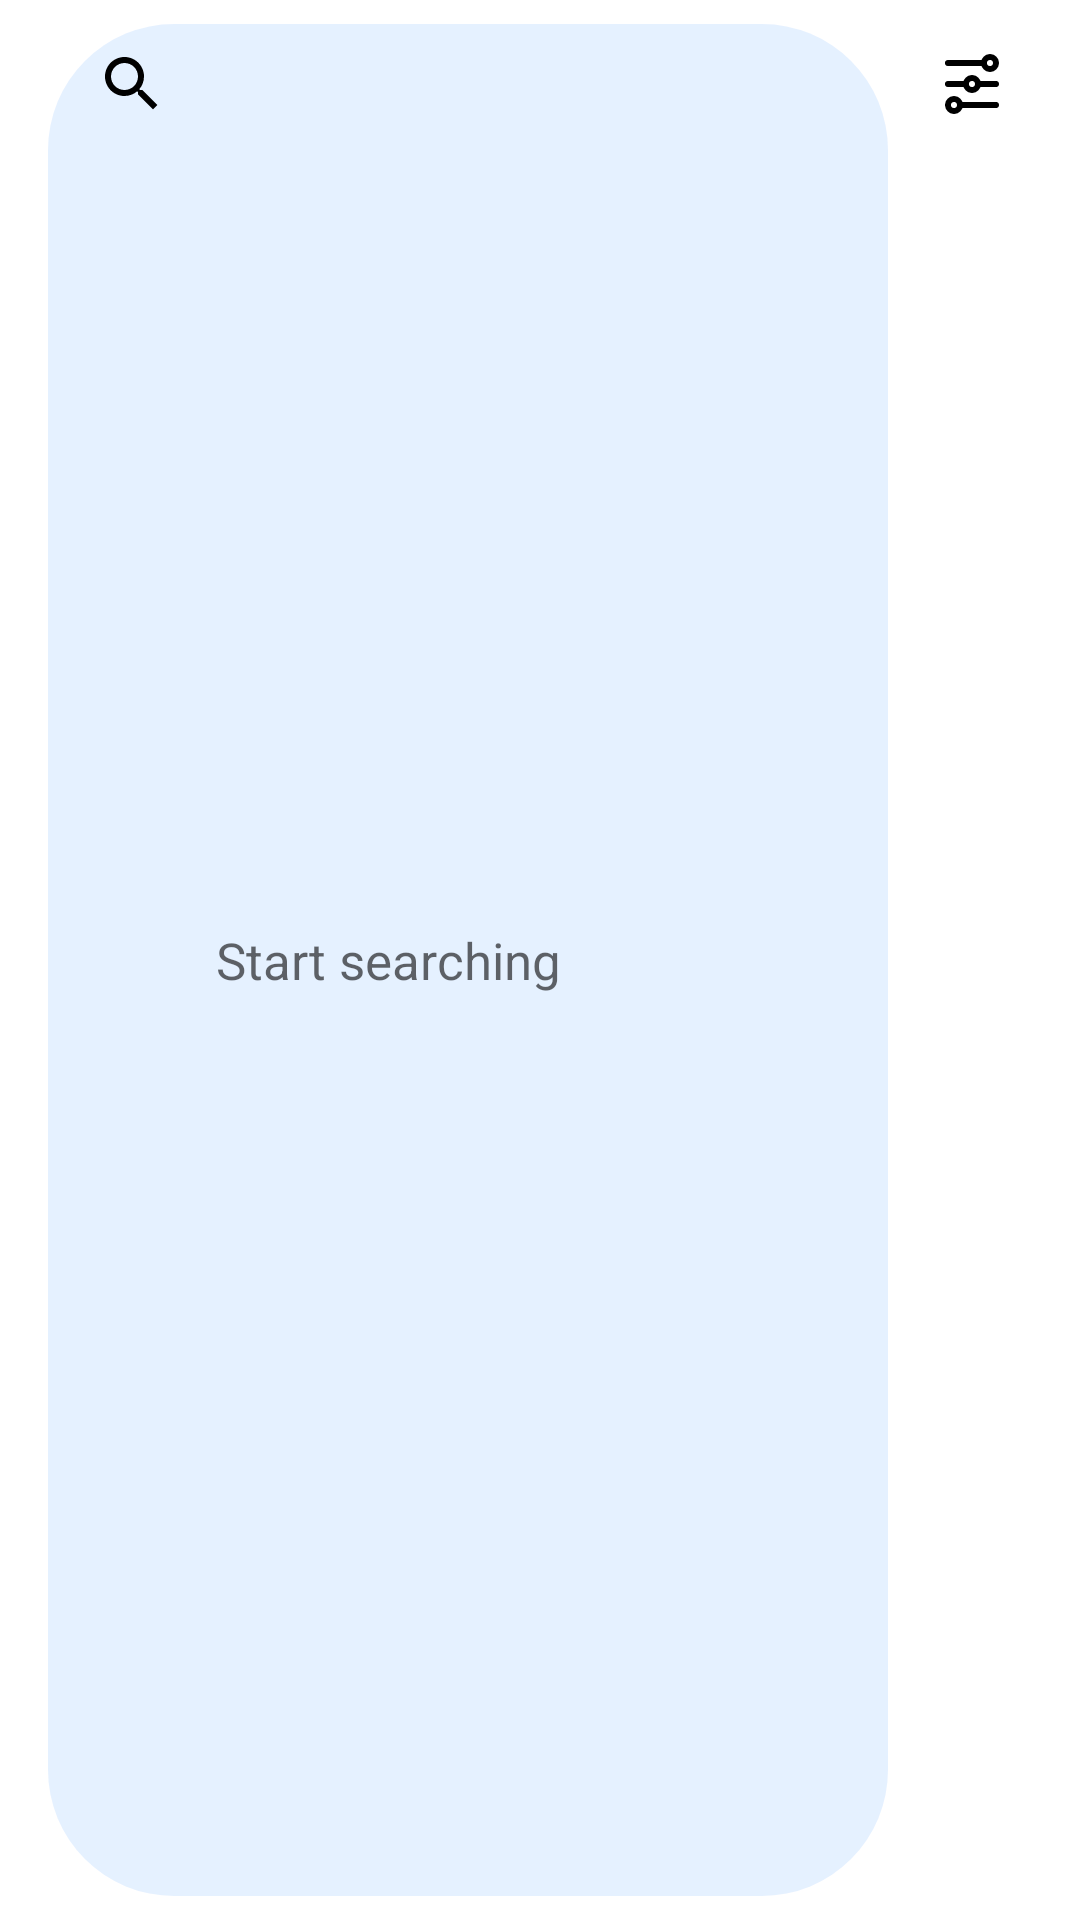

Point at icon controls on the screen. Image size 1080x1920, points as point (x, y).
Filters: point (972, 84)
